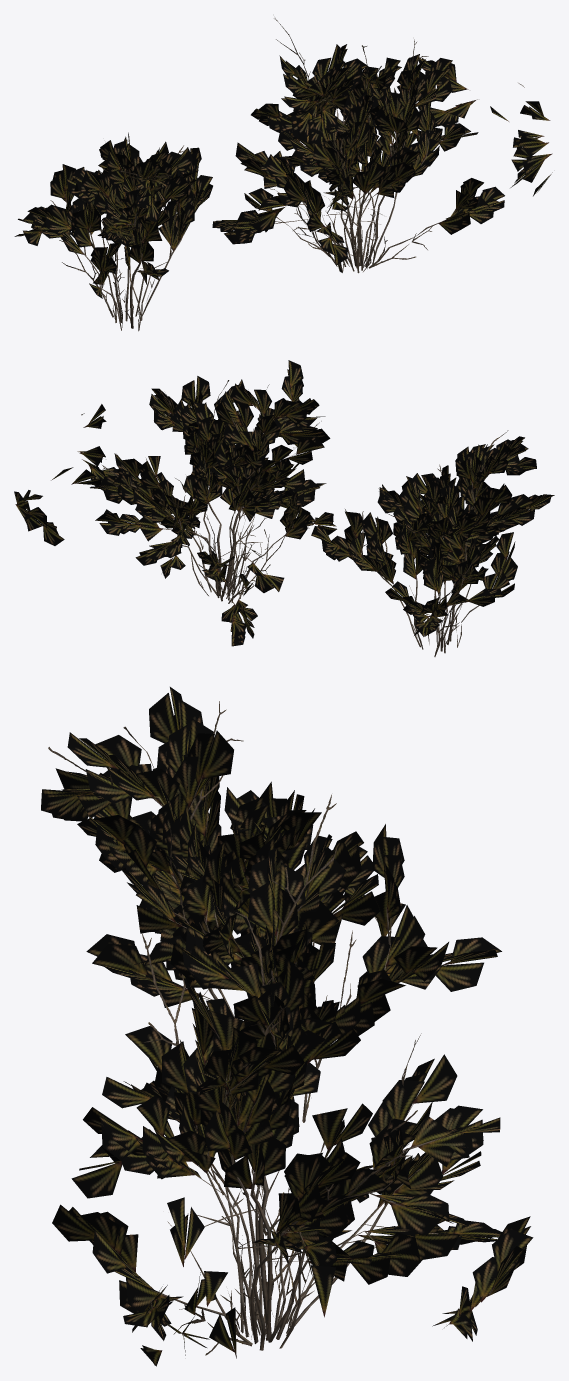
File: wild_rooibos_bush.glb
3 views of the same model, one above another, from view 1: azimuth 30°, elevation 25°; view 2: azimuth 150°, elevation 25°; view 3: azimuth 270°, elevation 25° (orthographic). The views are drawn at different scales.
Parts seen in each view (by area): view 1: wild_rooibos_bush; view 2: wild_rooibos_bush; view 3: wild_rooibos_bush.
Boxes of the visible parts, bbox=[...] form: wild_rooibos_bush: bbox=[14, 18, 552, 331]; wild_rooibos_bush: bbox=[14, 360, 554, 656]; wild_rooibos_bush: bbox=[41, 687, 533, 1366].
Size of what is drawn, in the model's own units: 2.61 by 1.3 by 1.21.
Materials: 3 (3 with a texture image).
